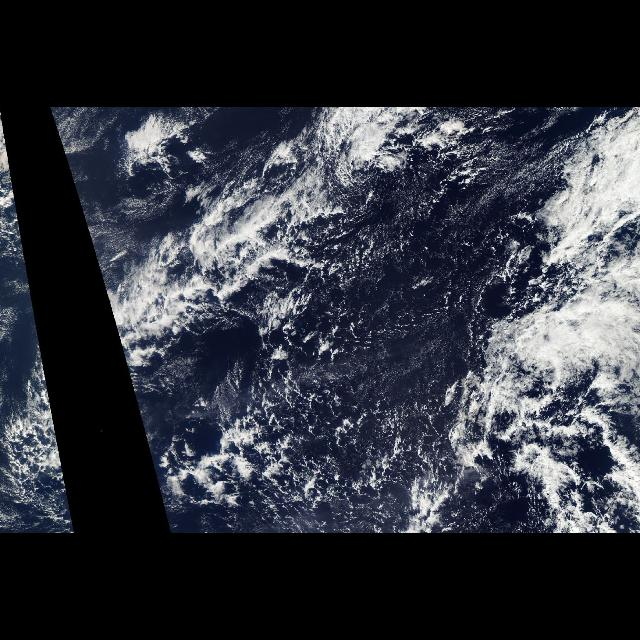Fish: (48, 107, 466, 509), (4, 131, 70, 509)
Gravel: (162, 146, 576, 532)
